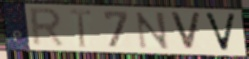7: (102, 9, 131, 50)
N: (134, 11, 172, 51)
R: (28, 6, 67, 49)
T: (67, 7, 94, 49)
V: (202, 11, 238, 54), (168, 11, 203, 52)
